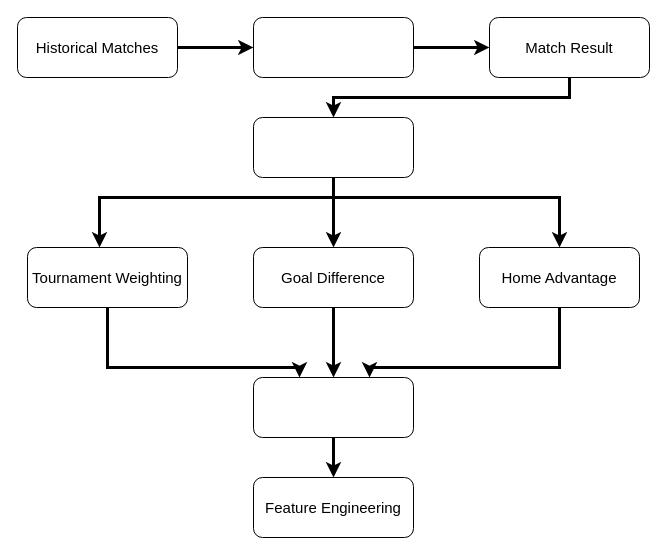
The diagram is 667 pixels wide and 555 high, and some of its shapes have lost their labels. Each missing label, with the box of its shape:
Current Elo Ratings: (252, 16, 414, 78)
Rating Update Factors: (252, 116, 414, 178)
Updated Elo Ratings: (252, 376, 414, 438)
